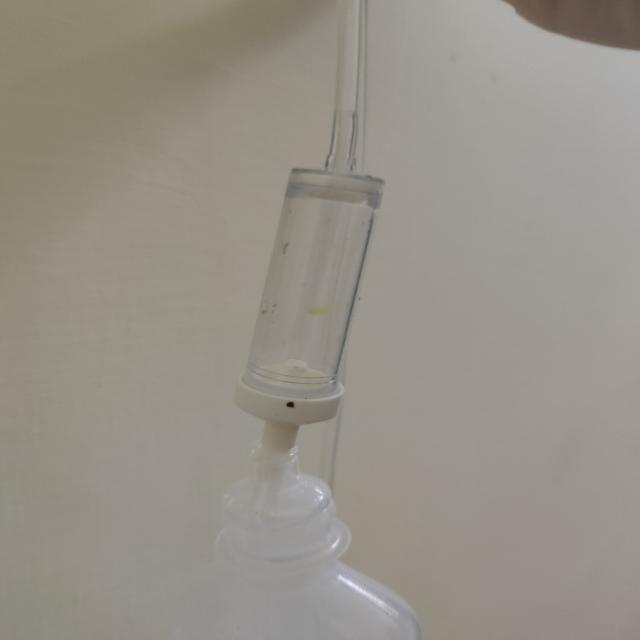B3: (229, 96, 391, 456), (194, 473, 418, 640)
